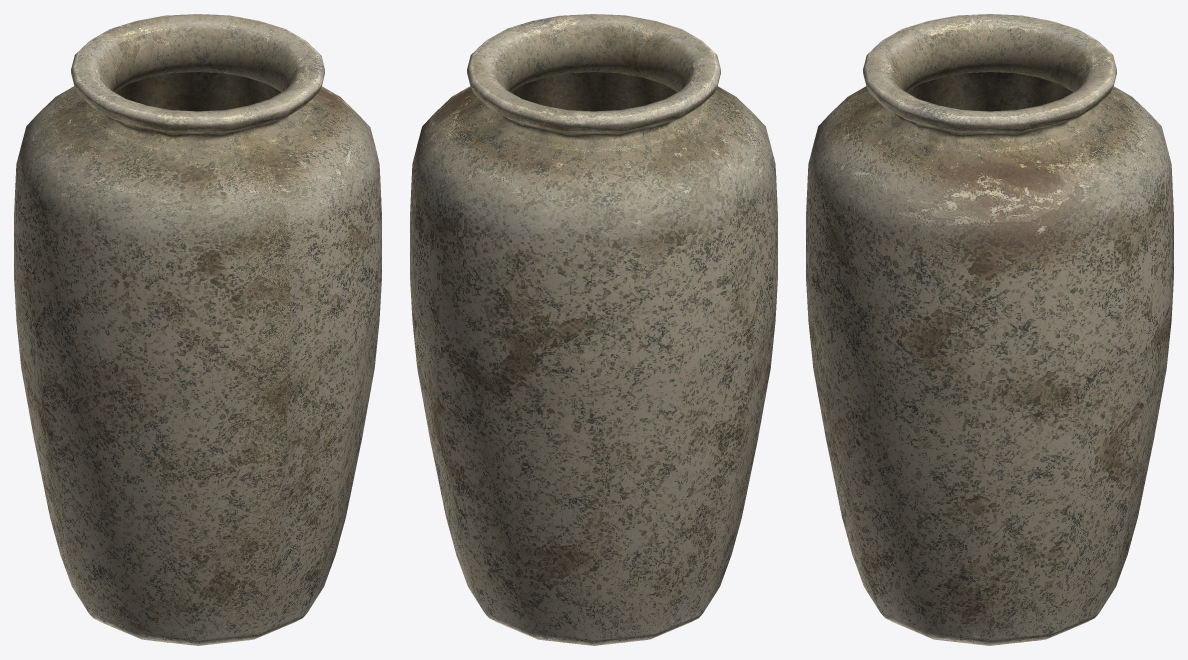
The model's file is pottery_basic_small_2.dae.
3 views of the same model, side by side, from view 1: azimuth 30°, elevation 25°; view 2: azimuth 150°, elevation 25°; view 3: azimuth 270°, elevation 25° (orthographic).
Visible parts, largest first — view 1: pottery_basic_small_2; view 2: pottery_basic_small_2; view 3: pottery_basic_small_2.
Boxes of the visible parts, x1,y1,x2,y2 form: pottery_basic_small_2: [14, 14, 381, 645]; pottery_basic_small_2: [410, 14, 777, 645]; pottery_basic_small_2: [806, 14, 1173, 645].
Bounding box in the file's own units: 43.81 × 70.16 × 43.81.
